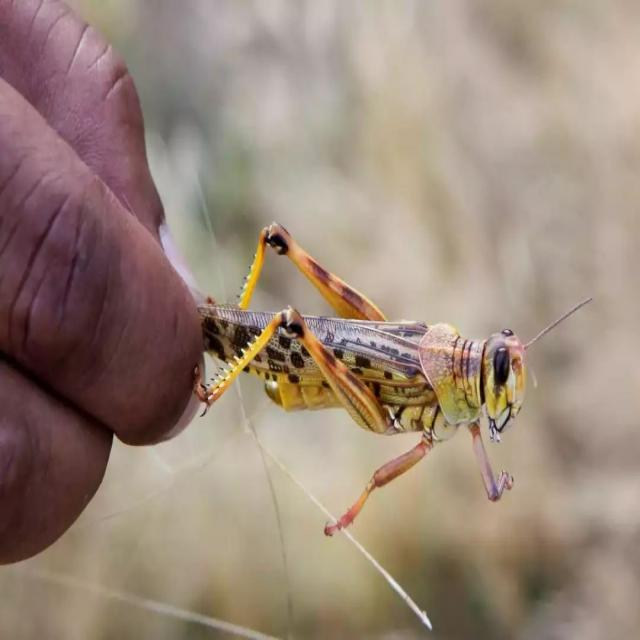ZhaMeng: (185, 205, 544, 518)
